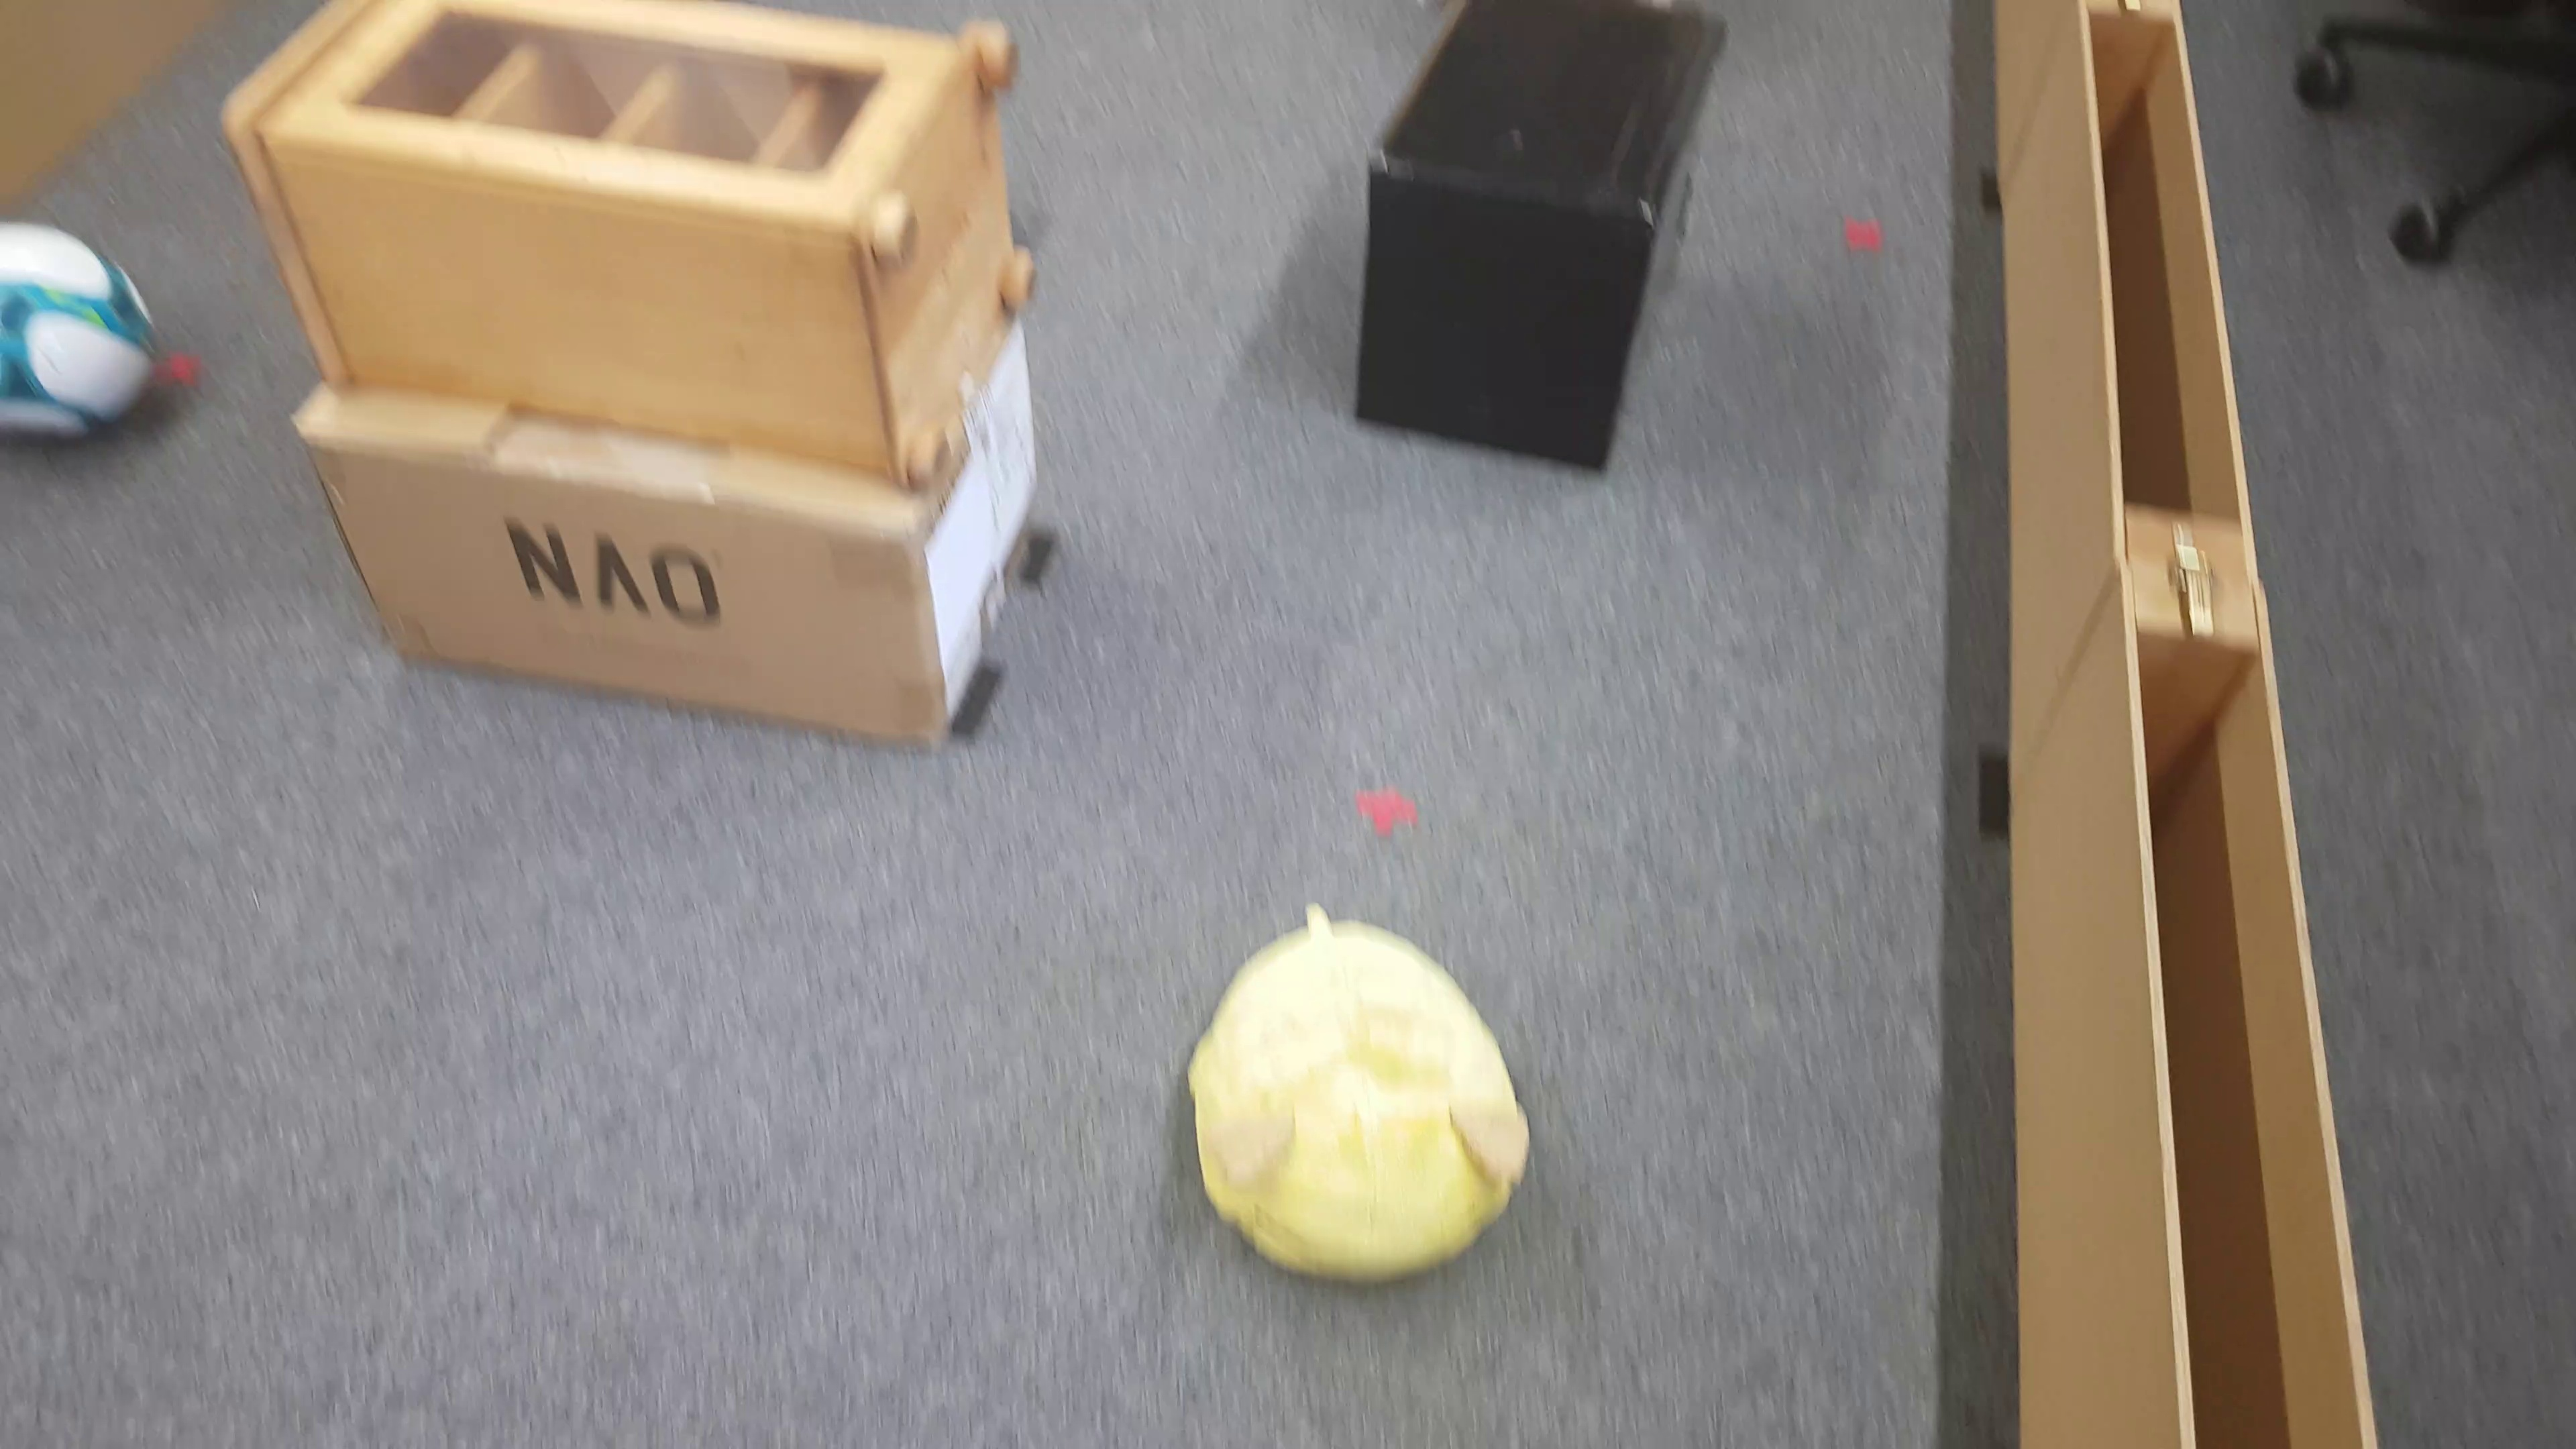grasp: (1182, 902, 1529, 1284)
kick: (4, 214, 163, 453)
push: (1364, 11, 1727, 464)
